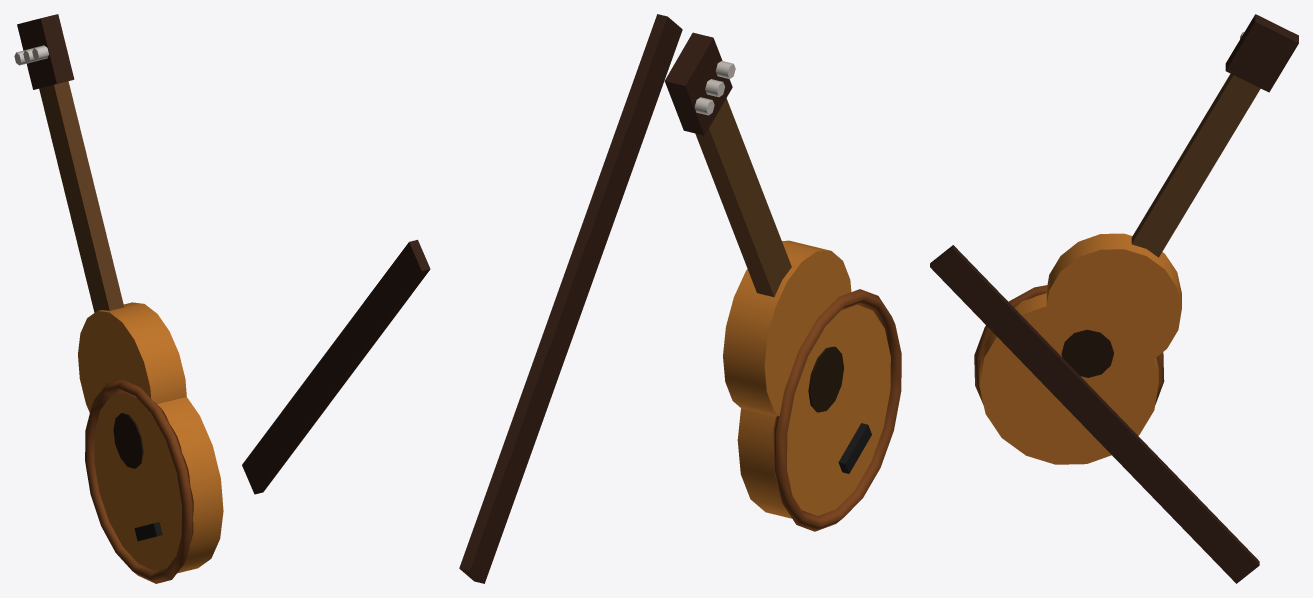
Rendered from back_guitar.glb.
The picture shows the model from 3 angles, left to right: view 1: azimuth 30°, elevation 25°; view 2: azimuth 150°, elevation 25°; view 3: azimuth 270°, elevation 25°; orthographic projection. The views are drawn at different scales.
Parts seen in each view (by area): view 1: Back; view 2: Back; view 3: Back.
Part boxes in pixels (left/top/right/bottom): Back: left=14, top=14, right=430, bottom=583; Back: left=459, top=14, right=901, bottom=583; Back: left=930, top=14, right=1298, bottom=583.
Size of the model in its own units: 0.456 by 1.01 by 0.7144.
